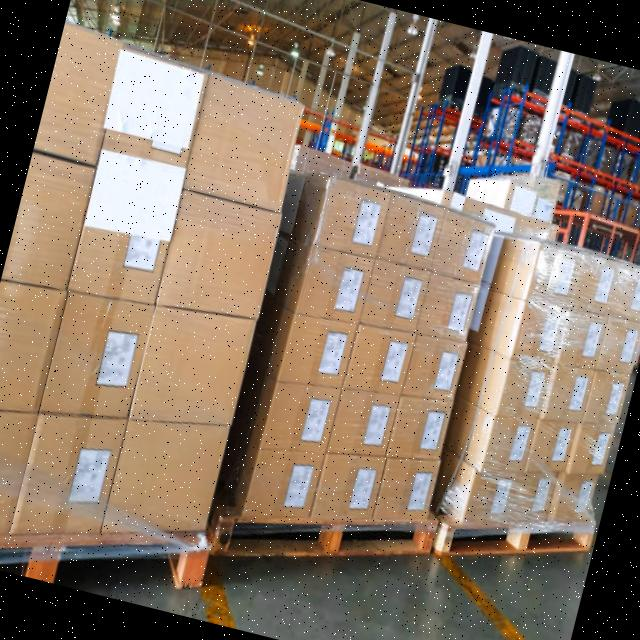Wooden-Pallets: (205, 501, 435, 567), (435, 517, 597, 577)
